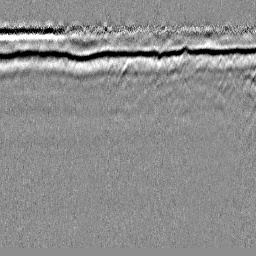cavity: (115, 56, 141, 87)
